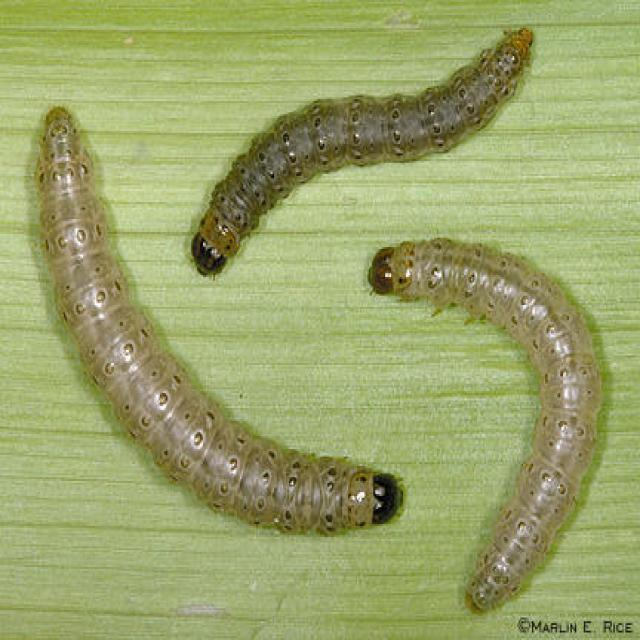cornborer-Larva-: (27, 91, 416, 542), (361, 224, 627, 610), (182, 20, 554, 284)
